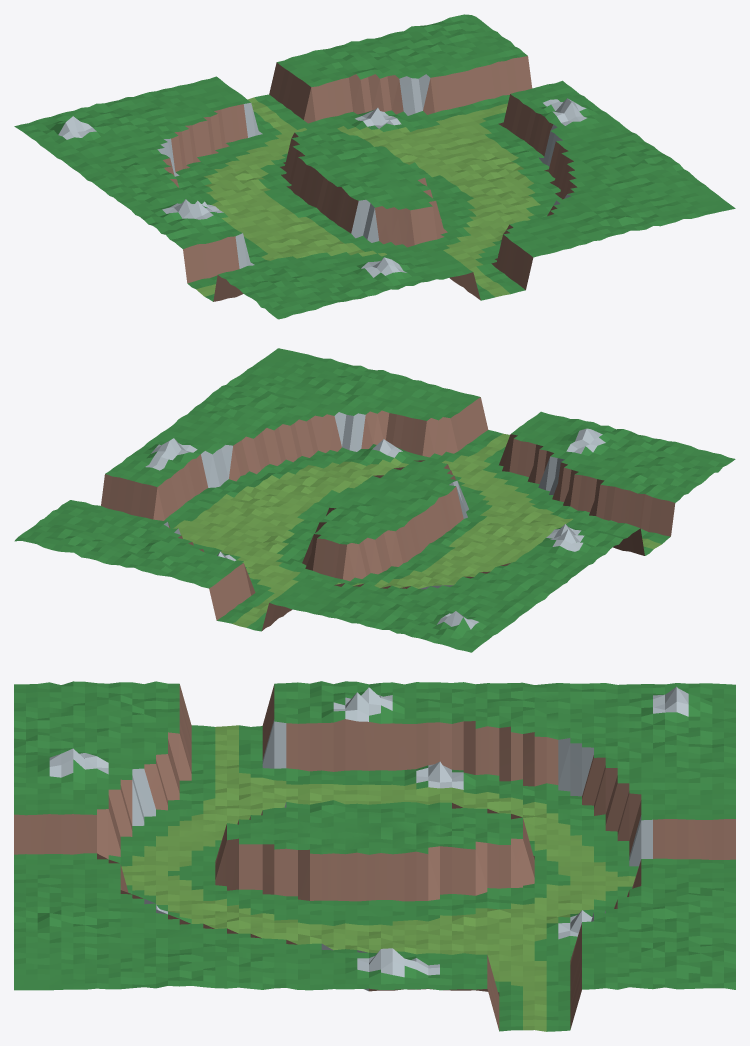
Rendered from stage4.fbx.
3 views of the same model, one above another, from view 1: azimuth 30°, elevation 25°; view 2: azimuth 150°, elevation 25°; view 3: azimuth 270°, elevation 25° (orthographic). The views are drawn at different scales.
Parts seen in each view (by area): view 1: ground; view 2: ground; view 3: ground.
Boxes of the visible parts, x1,y1,x2,y2 form: ground: (14, 14, 735, 319); ground: (14, 348, 735, 652); ground: (14, 681, 735, 1031).
Size of the model in its own units: 16000 by 1607 by 16000.
